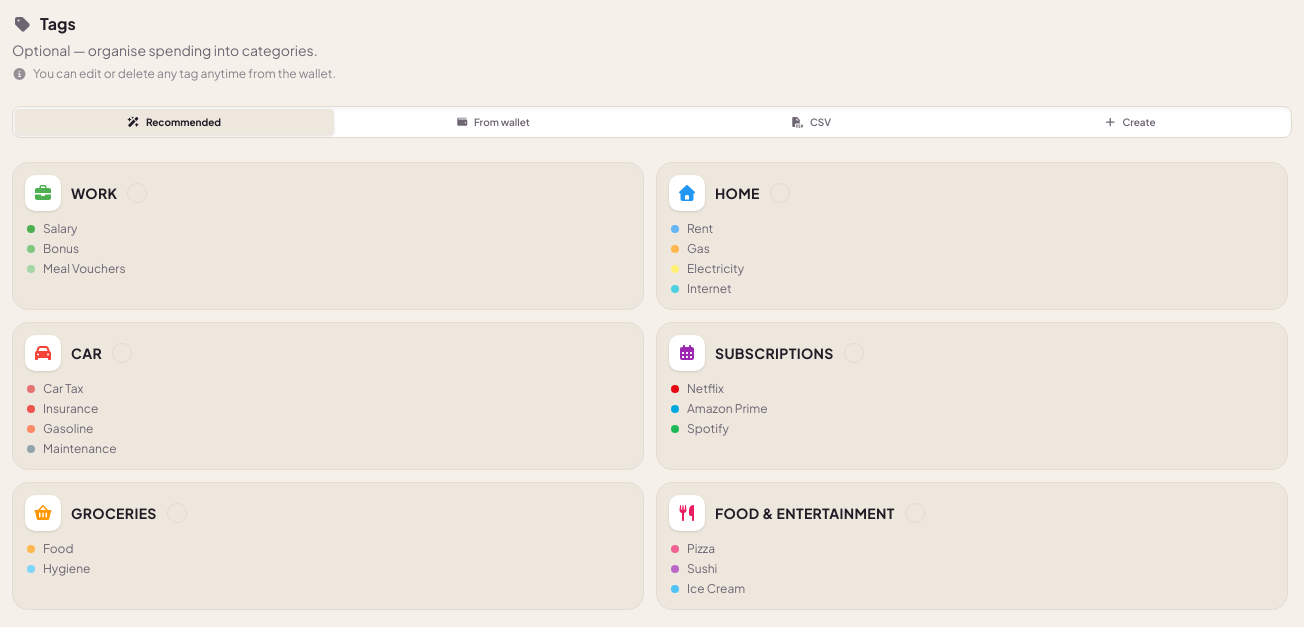
Test: TagsStep — recommended categories › lists source wallets in the From-wallet mode
Click the button "From wallet".
click(493, 122)  # box 334,109 -> 652,135
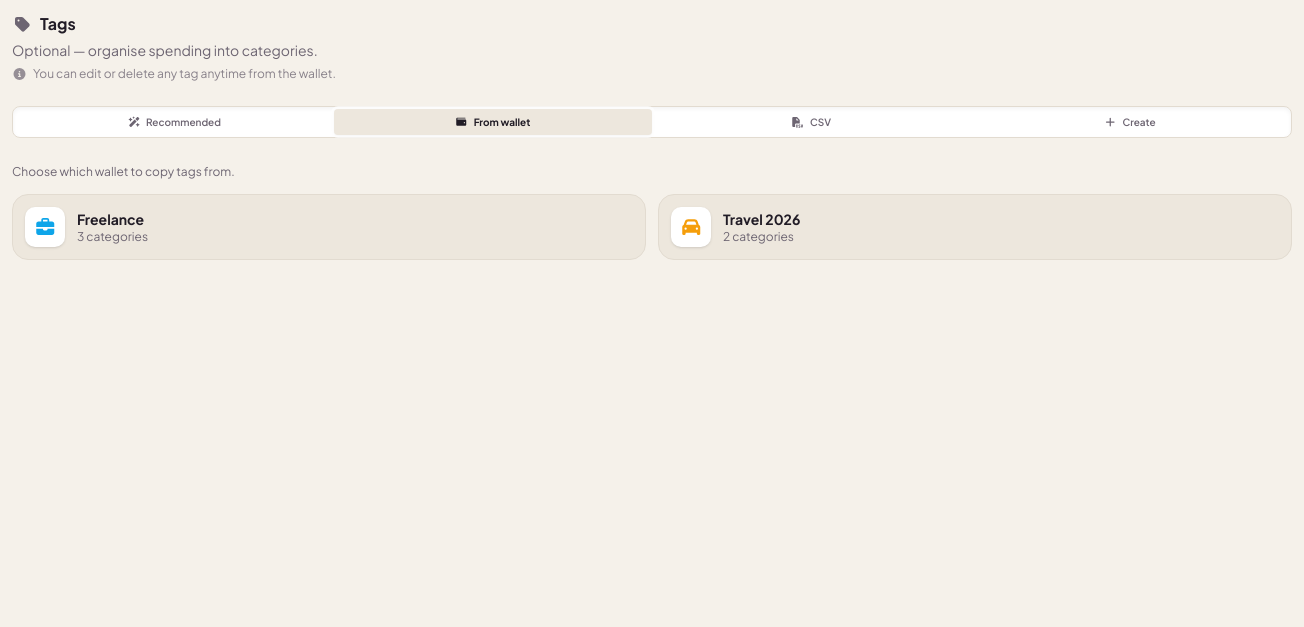
Now the button with aria-label "use tags from freelance" is shown, box 12,194 -> 646,260
Now the button with aria-label "use tags from travel 2026" is shown, box 658,194 -> 1292,260
